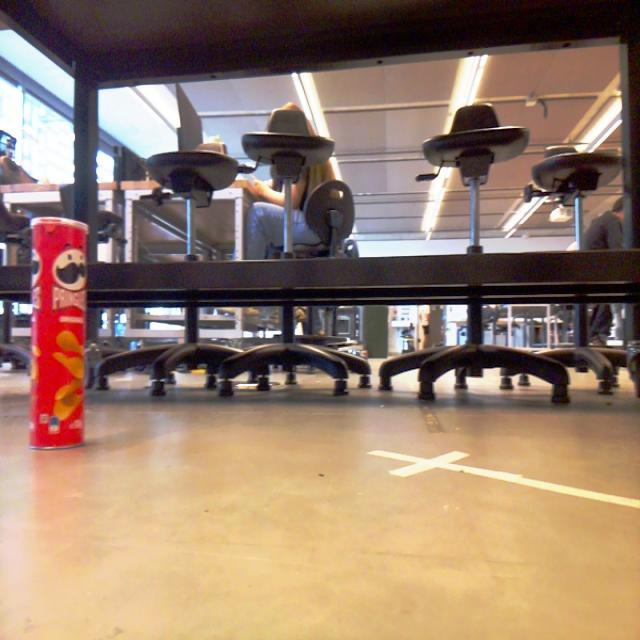redpringles: (20, 205, 99, 460)
